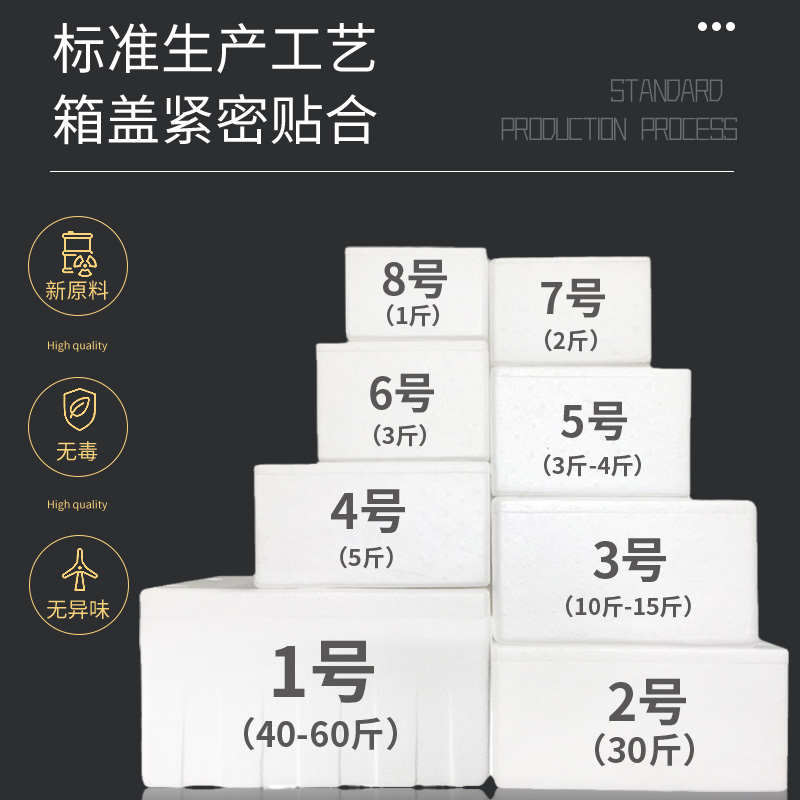Boxes: (140, 249, 788, 792)
